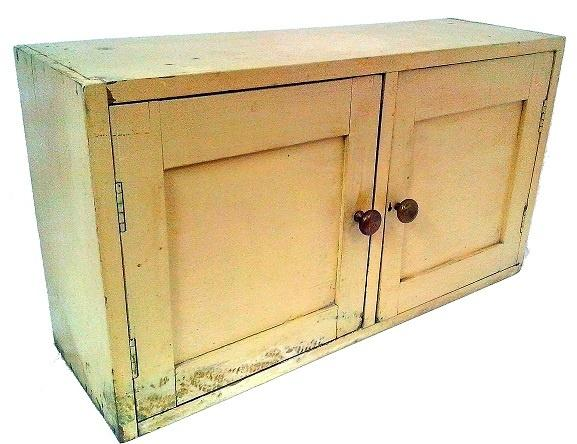cabinet_door: (120, 91, 371, 372), (378, 69, 528, 284)
handle: (356, 208, 383, 239), (395, 199, 419, 228)
